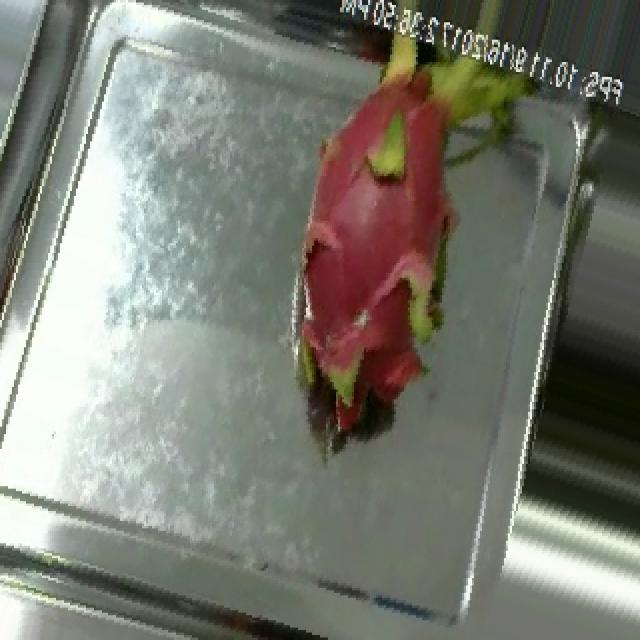fruit: (236, 7, 568, 459)
